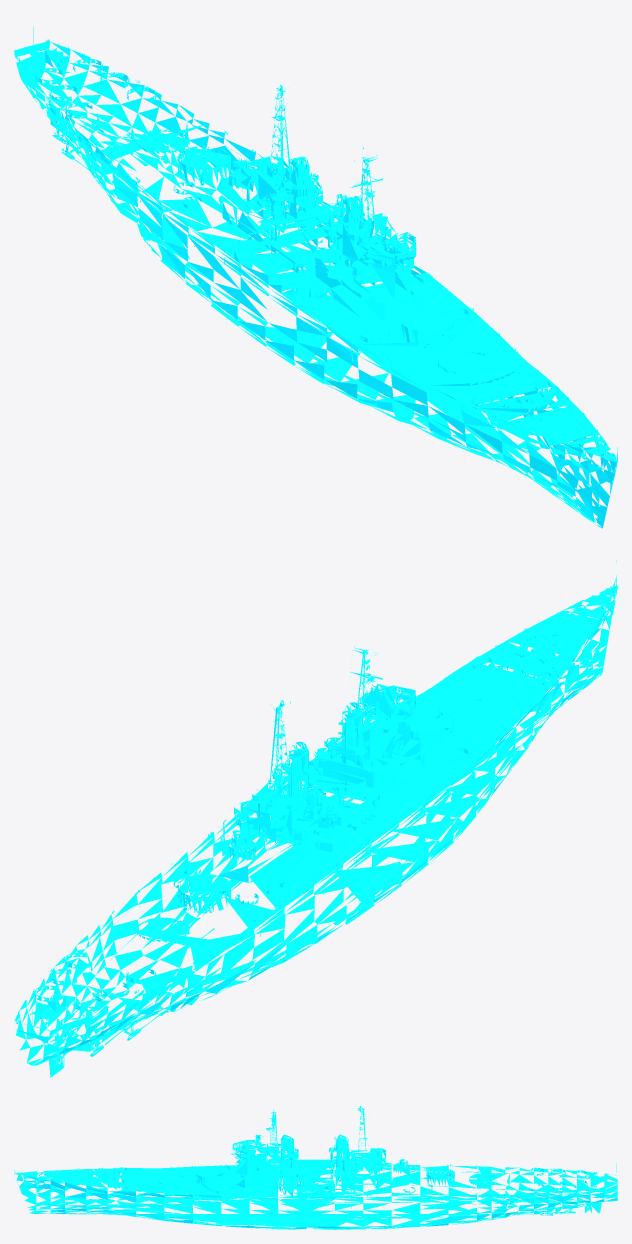
The model's file is Thunderer.glb.
3 renders of one model, top to bottom at view 1: azimuth 30°, elevation 25°; view 2: azimuth 150°, elevation 25°; view 3: azimuth 270°, elevation 25°, orthographic. The views are drawn at different scales.
Size of the model in its own units: 2.47 by 3.57 by 18.15.
